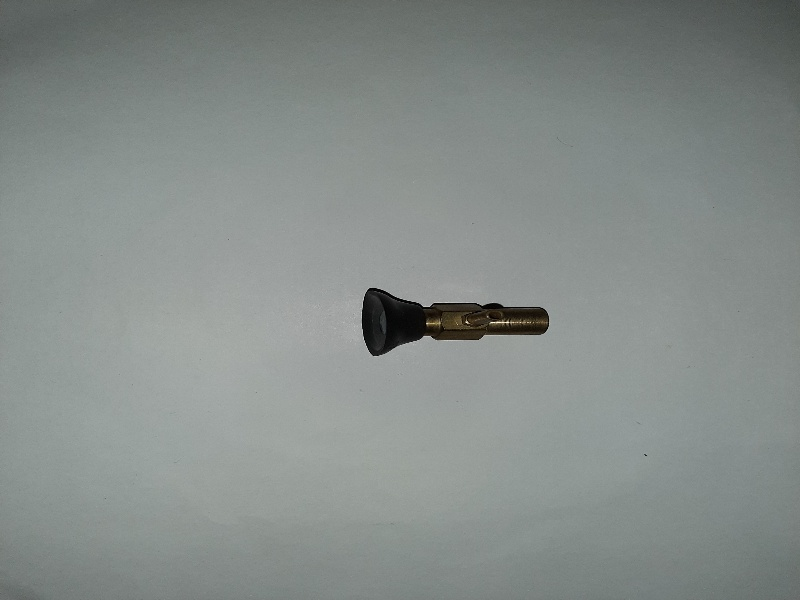Joint Hold: (356, 280, 558, 360)
